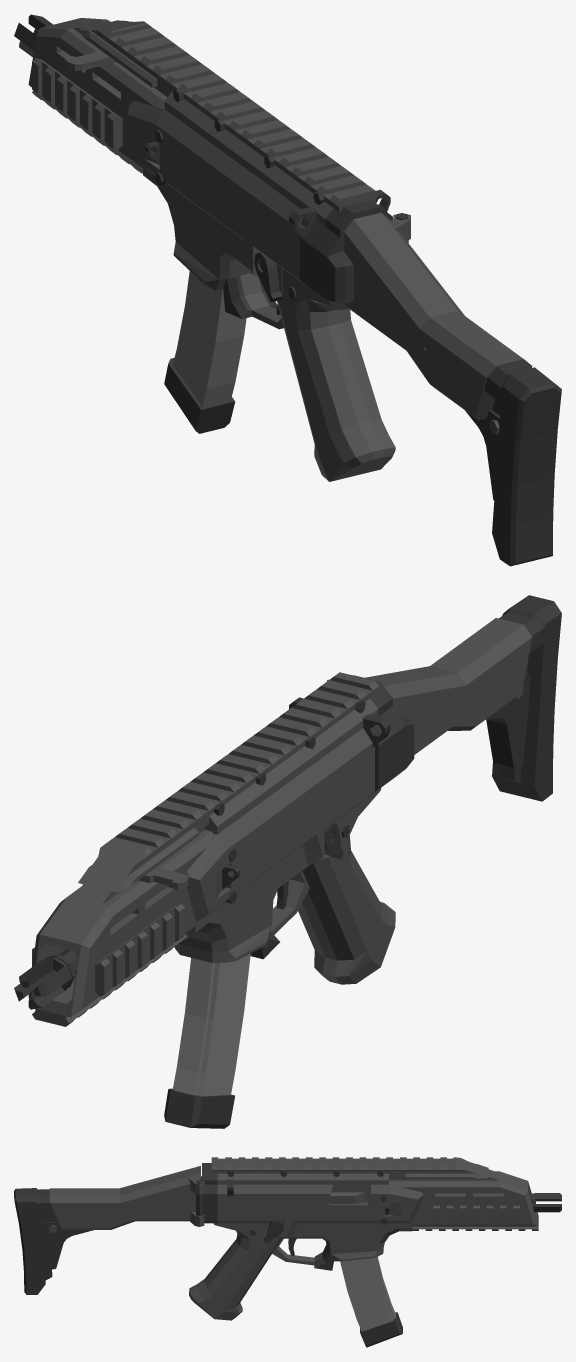
The model's file is Scorpion.fbx.
3 renders of one model, top to bottom at view 1: azimuth 30°, elevation 25°; view 2: azimuth 150°, elevation 25°; view 3: azimuth 270°, elevation 25°, orthographic. The views are drawn at different scales.
Parts seen in each view (by area): view 1: EVO3, Stock, Magazine, Bolt; view 2: EVO3, Stock, Magazine, Bolt; view 3: EVO3, Stock, Magazine, Bolt.
Boxes of the visible parts, x1,y1,x2,y2 form: EVO3: (14,14,395,481); Stock: (344,212,561,566); Magazine: (164,271,246,433); Bolt: (65,49,116,70); EVO3: (14,672,414,1026); Stock: (327,595,561,801); Magazine: (164,953,250,1128); Bolt: (139,867,188,889); EVO3: (189,1157,561,1320); Stock: (14,1166,204,1294); Magazine: (340,1257,402,1347); Bolt: (328,1157,459,1203).
Bounding box in the file's own units: 34.61 × 106 × 288.
1 material, 1 textured.
